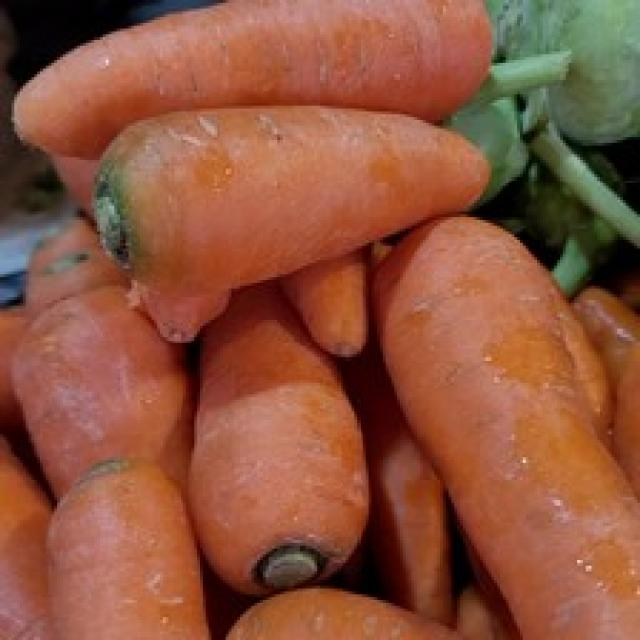Fresh_Carrot: (376, 220, 640, 640), (96, 110, 497, 277), (187, 281, 378, 579), (42, 461, 219, 635)
